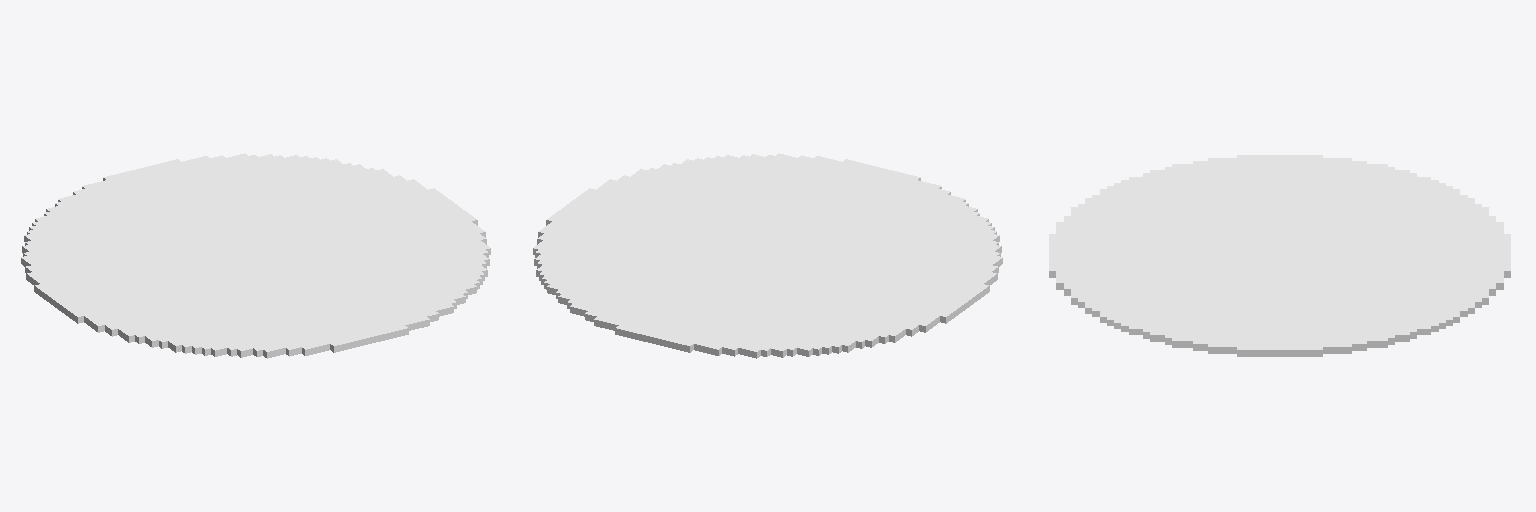
Rendered from fountain.vox-1.obj.
The picture shows the model from 3 angles: view 1: azimuth 30°, elevation 25°; view 2: azimuth 150°, elevation 25°; view 3: azimuth 270°, elevation 25°; orthographic projection.
Parts seen in each view (by area): view 1: object 1; view 2: object 1; view 3: object 1.
Part boxes in pixels (bbox=[...]): object 1: bbox=[21, 153, 490, 358]; object 1: bbox=[533, 153, 1002, 358]; object 1: bbox=[1049, 155, 1510, 356].
Bounding box in the file's own units: 6.4 × 0.1 × 6.4.